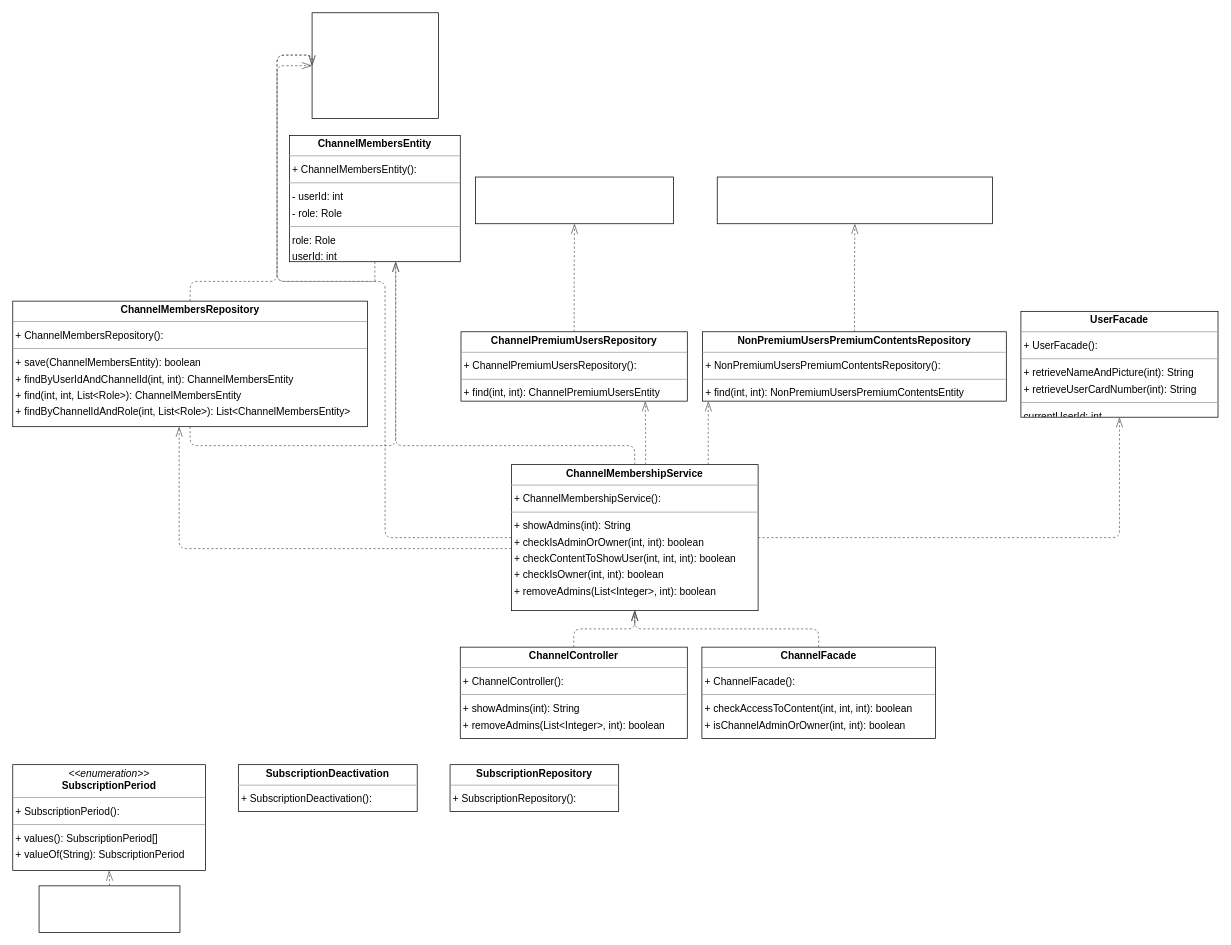
Image size: 1231x945. Some labels were removed from this diagram. The shapes that lost their labels are listed below. From the top down, each one's centre as x and y in pixels, then its label:
At point (374, 65): "<<enumeration>> Role + Role(): + values(): Role[] + valueOf(String): Role".
At point (574, 200): "ChannelPremiumUsersEntity + ChannelPremiumUsersEntity():".
At point (854, 200): "NonPremiumUsersPremiumContentsEntity + NonPremiumUsersPremiumContentsEntity():".
At point (109, 909): "SubscriptionEntity + SubscriptionEntity():".
